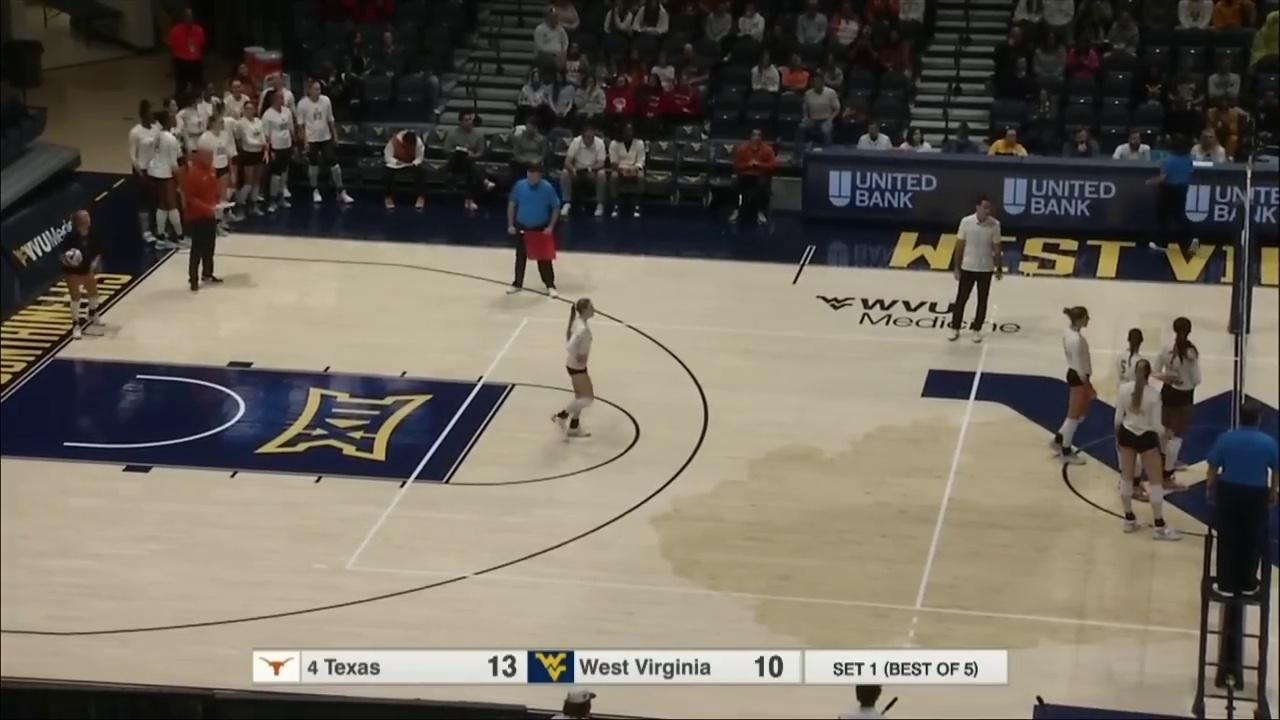player: (1122, 361, 1166, 543), (1115, 331, 1160, 500), (1162, 317, 1201, 496), (1056, 308, 1095, 464), (61, 213, 107, 339), (559, 298, 597, 438)
refree: (1214, 415, 1272, 594), (505, 166, 558, 296), (1154, 143, 1195, 252)
